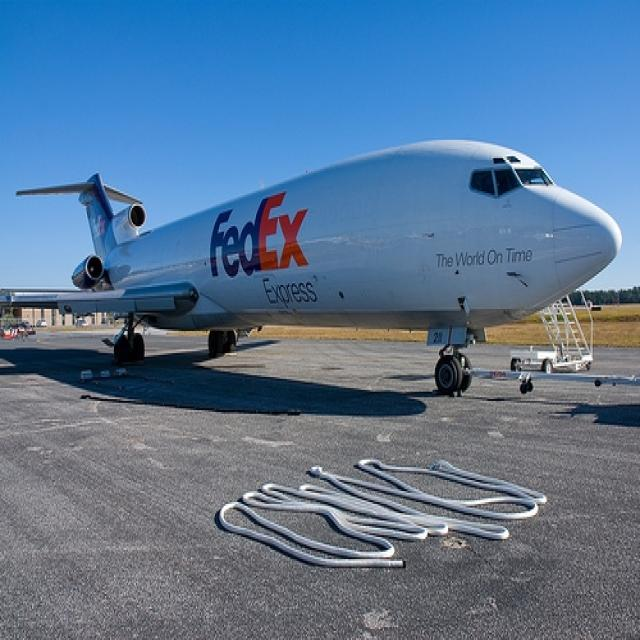fedex: (207, 189, 316, 283)
